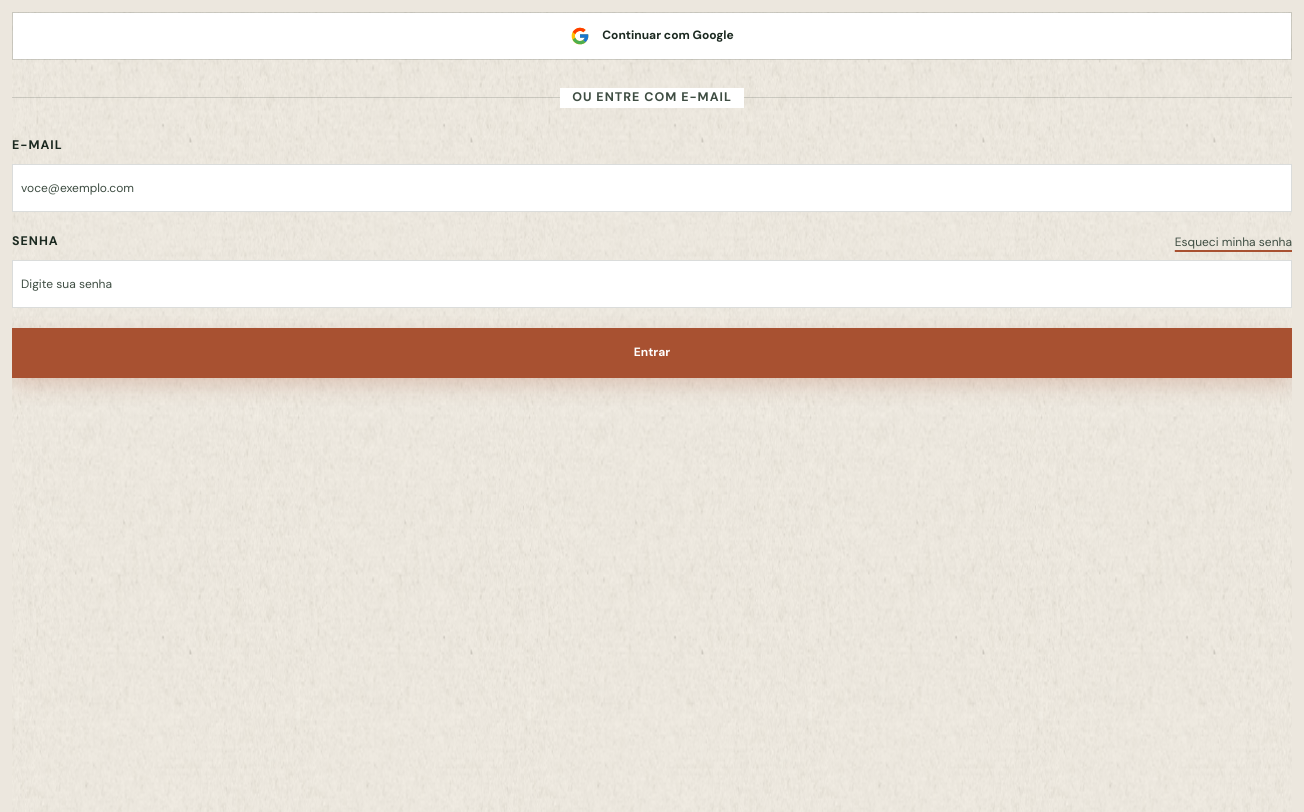
Test: SignInForm (components/auth) › exibe mensagem padrão quando API retorna erro sem message
Type "teste@email.com" into the field with placeholder "voce@exemplo.com" at [652, 188], box [12, 164, 1292, 212]
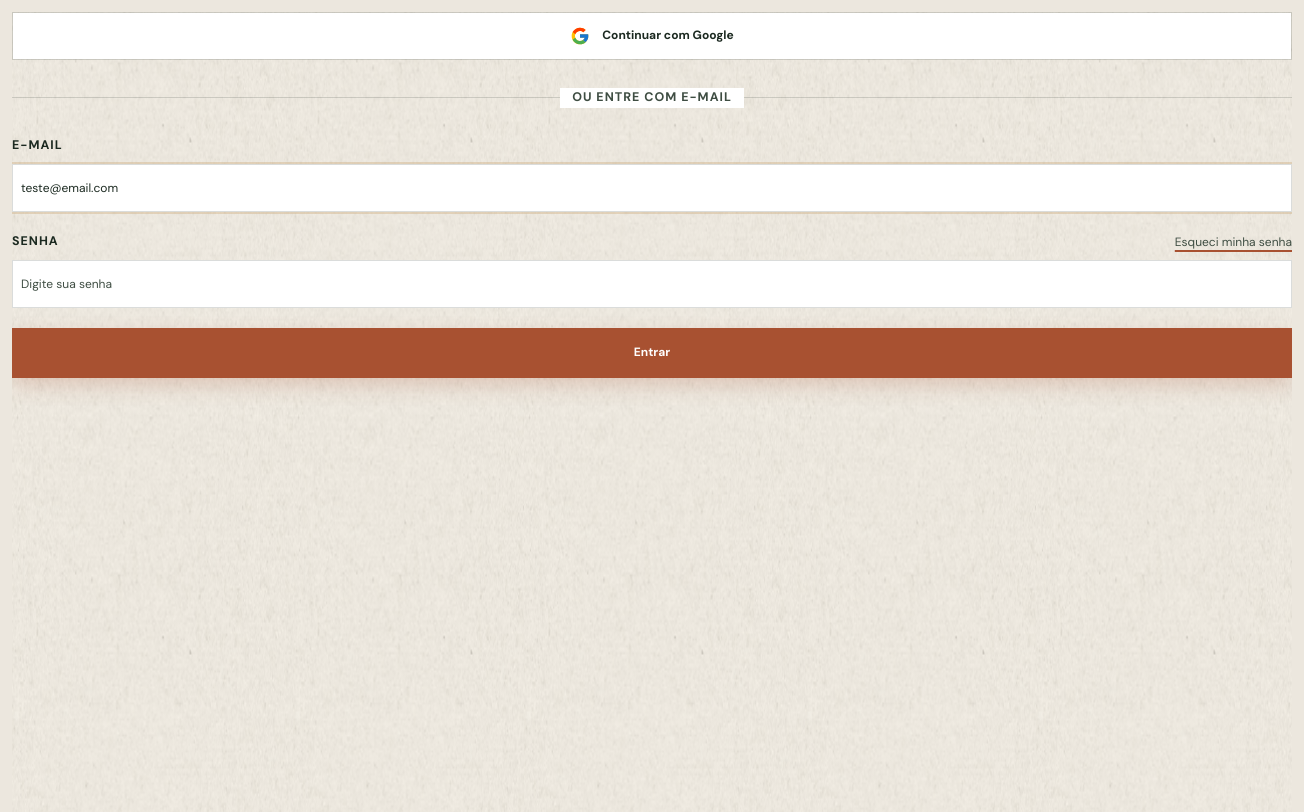
Type "12345678" into the password field with placeholder "Digite sua senha" at [652, 284], box [12, 260, 1292, 308]
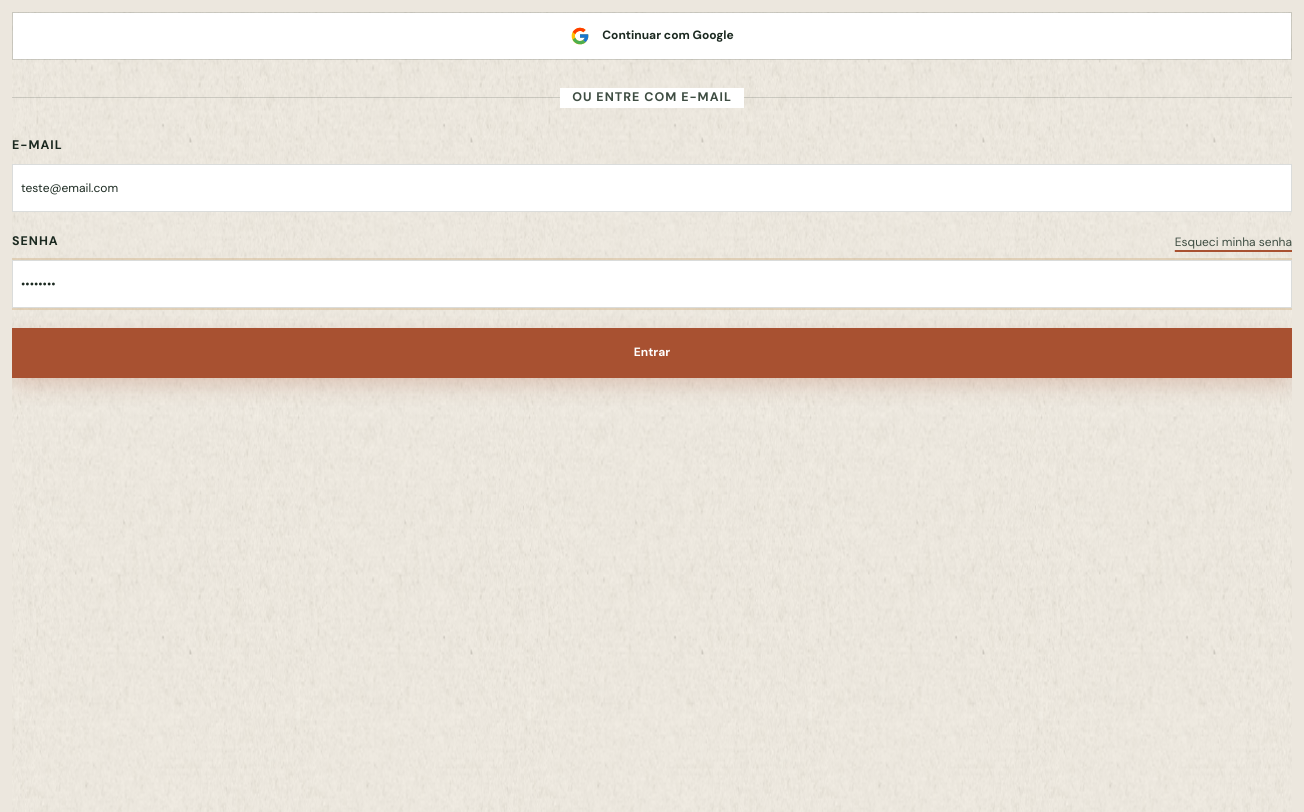
Click the button "Entrar" at [652, 353], box [12, 328, 1292, 378]
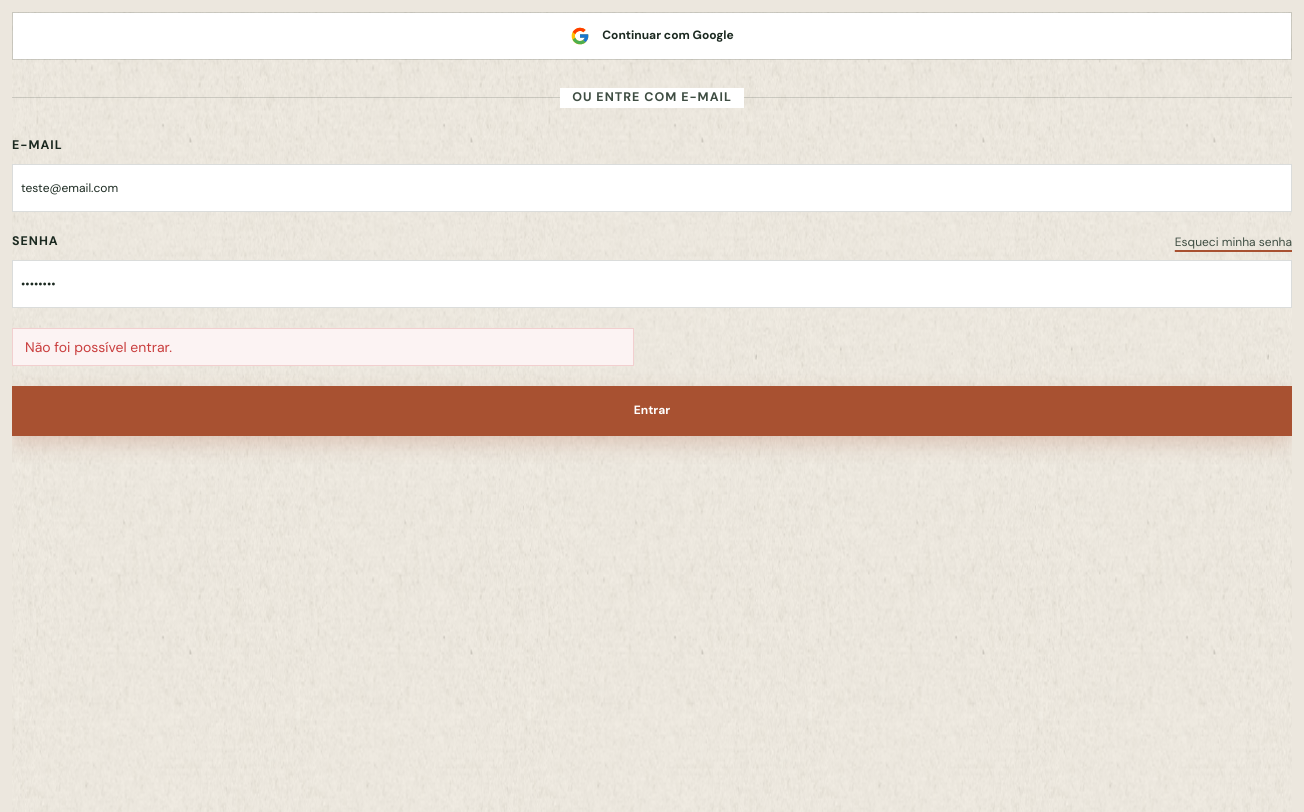
Now the text "Não foi possível entrar." is shown, box [12, 328, 634, 366]
